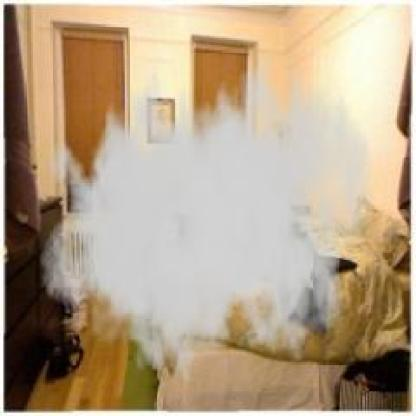Smoke: (39, 29, 374, 390)
